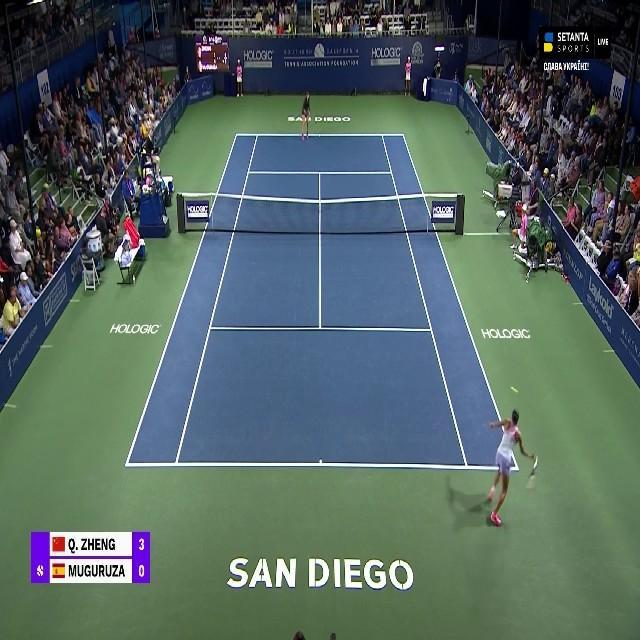left side: (382, 134, 518, 469), (126, 134, 258, 465)
player: (480, 408, 534, 526), (297, 89, 315, 140)
